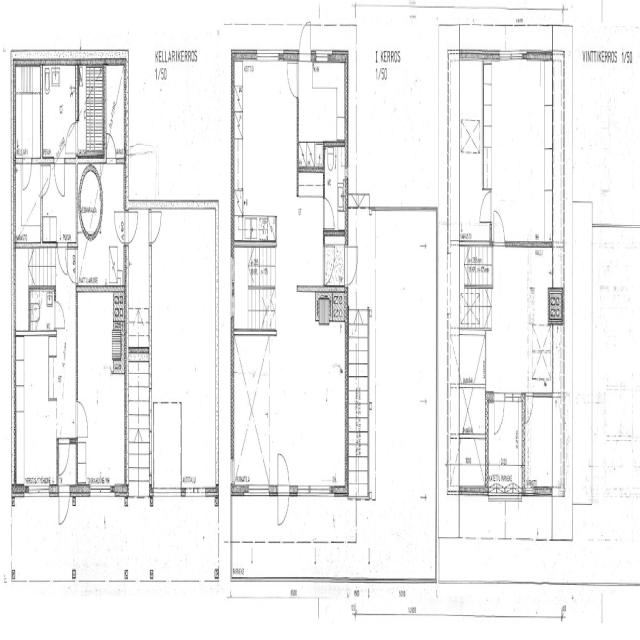door: (275, 447, 291, 532), (478, 184, 493, 231), (298, 15, 312, 64), (492, 391, 506, 439), (345, 243, 360, 287), (492, 205, 507, 248), (286, 56, 300, 100), (75, 396, 89, 440), (57, 434, 71, 478), (600, 184, 614, 225), (64, 119, 78, 158), (20, 152, 33, 194), (112, 206, 126, 245), (126, 204, 139, 245), (149, 206, 162, 246), (54, 155, 66, 198), (322, 195, 335, 233), (58, 486, 70, 527), (40, 158, 52, 197), (65, 241, 77, 278), (54, 298, 66, 332), (524, 391, 535, 428), (56, 242, 67, 278), (105, 130, 116, 164)
window: (301, 480, 335, 504), (496, 48, 528, 68), (255, 46, 282, 68), (25, 482, 51, 504), (89, 482, 116, 503), (154, 485, 182, 505), (185, 482, 209, 502), (229, 254, 236, 322), (248, 480, 270, 501), (534, 479, 553, 501), (313, 46, 331, 65), (229, 455, 235, 486)
zone: (270, 304, 346, 494), (151, 205, 217, 420), (486, 57, 555, 246), (233, 56, 297, 238), (76, 298, 127, 499), (14, 329, 57, 491), (453, 55, 487, 244), (233, 326, 271, 487), (604, 69, 638, 229), (297, 57, 347, 150), (522, 394, 566, 495), (573, 56, 601, 206), (232, 242, 274, 332), (456, 326, 488, 441), (487, 398, 524, 497), (41, 58, 77, 156), (126, 204, 150, 348), (152, 400, 182, 494), (14, 60, 42, 158), (77, 61, 104, 158), (128, 350, 150, 469), (44, 154, 74, 235), (104, 57, 125, 161), (452, 434, 488, 493), (324, 141, 346, 234), (79, 157, 102, 235), (29, 290, 54, 332)
